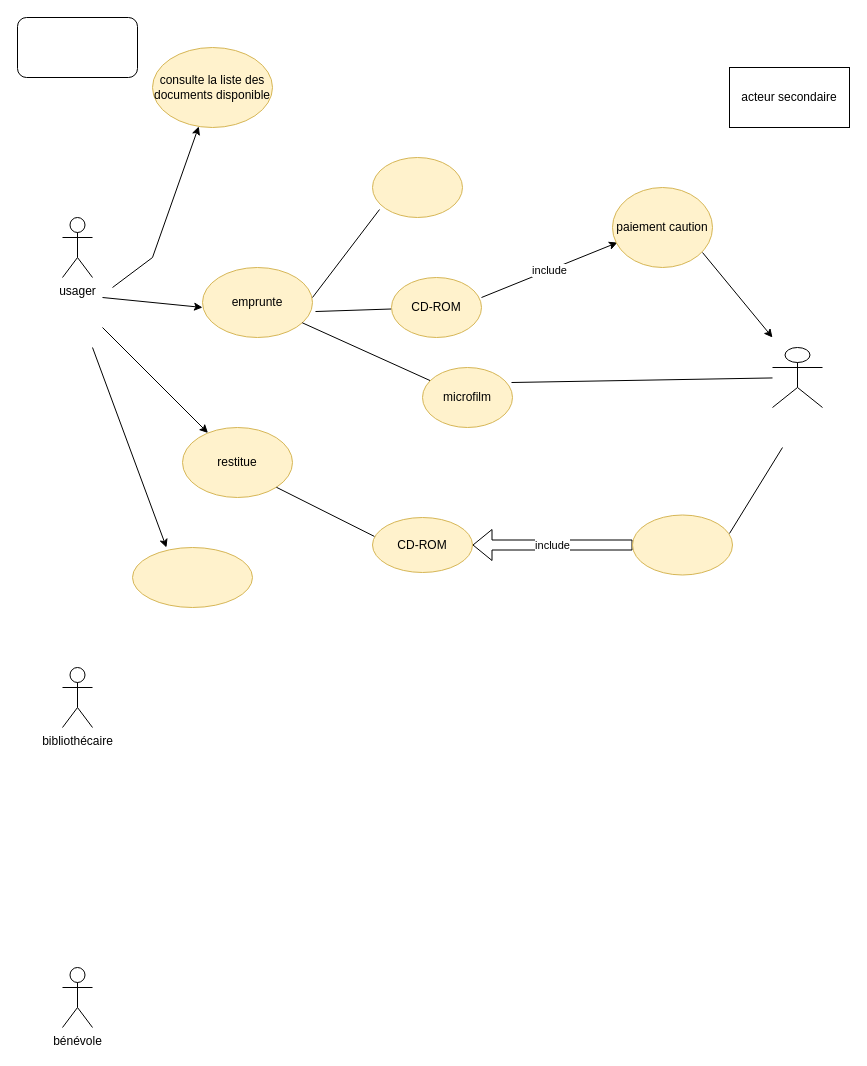
The diagram is 867 pixels wide and 1066 high, and some of its shapes have lost their labels. Here are the shapes that lost their labels. From the top down, the centre of each, then its label:
At pixel 77 47: "acteur principale".
At pixel 417 187: "livre".
At pixel 797 377: "guichet".
At pixel 682 544: "restitue caution".
At pixel 192 577: "carte de lecteur".
